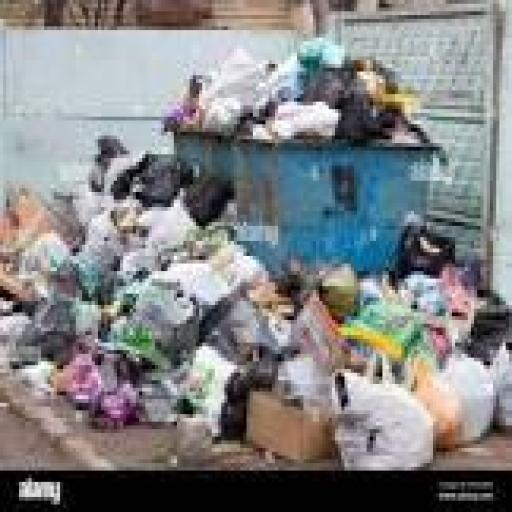poubelle_pleine: (145, 42, 468, 296)
